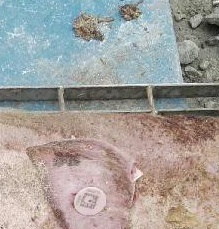text: (64, 174, 112, 224)
